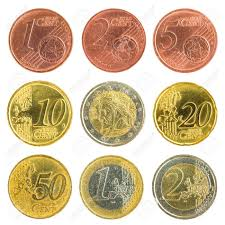euro_1: (79, 153, 146, 219)
euro_2: (150, 154, 217, 221)
